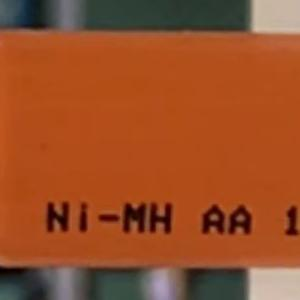NI-MH: (36, 193, 182, 242)
